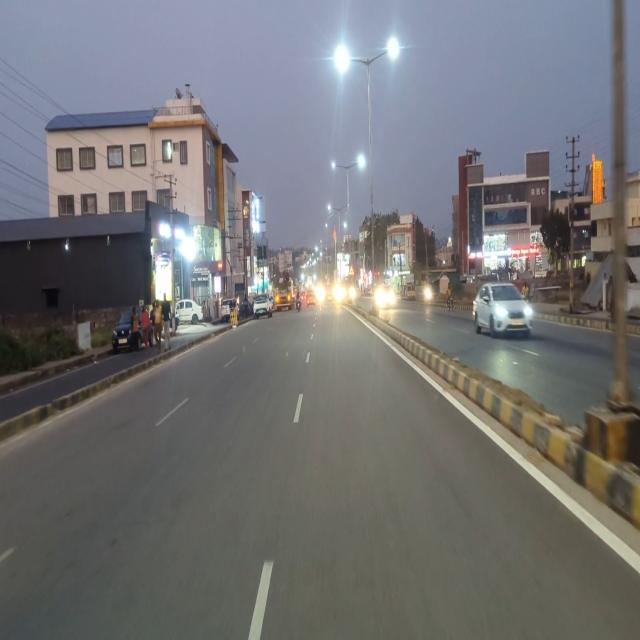bien_cam: (347, 264, 355, 276)
